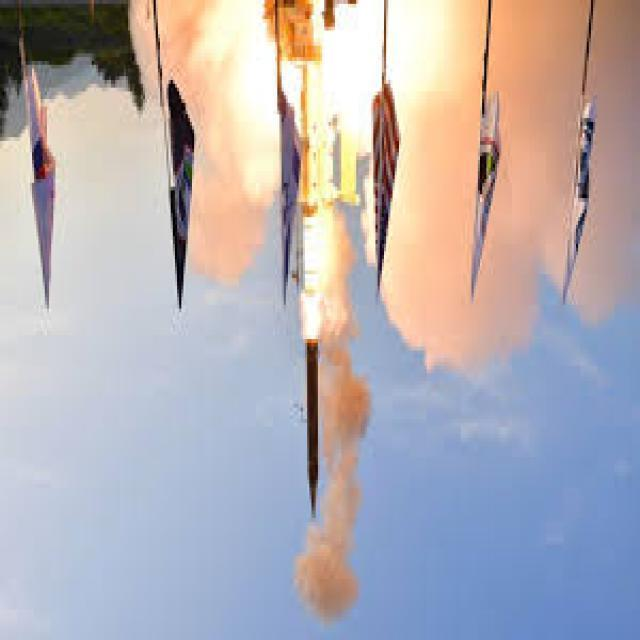missile: (303, 326, 321, 524)
